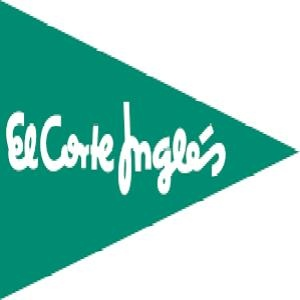corte_ingles: (297, 1, 300, 4)
